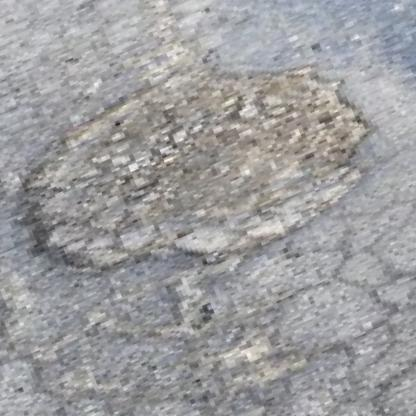pothole: (0, 6, 400, 333)
